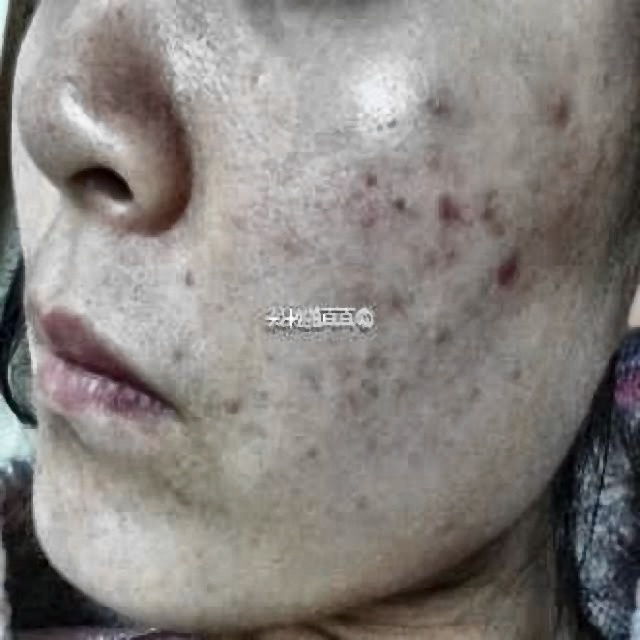comedone: (497, 239, 536, 301), (431, 185, 466, 235), (538, 85, 574, 133)
